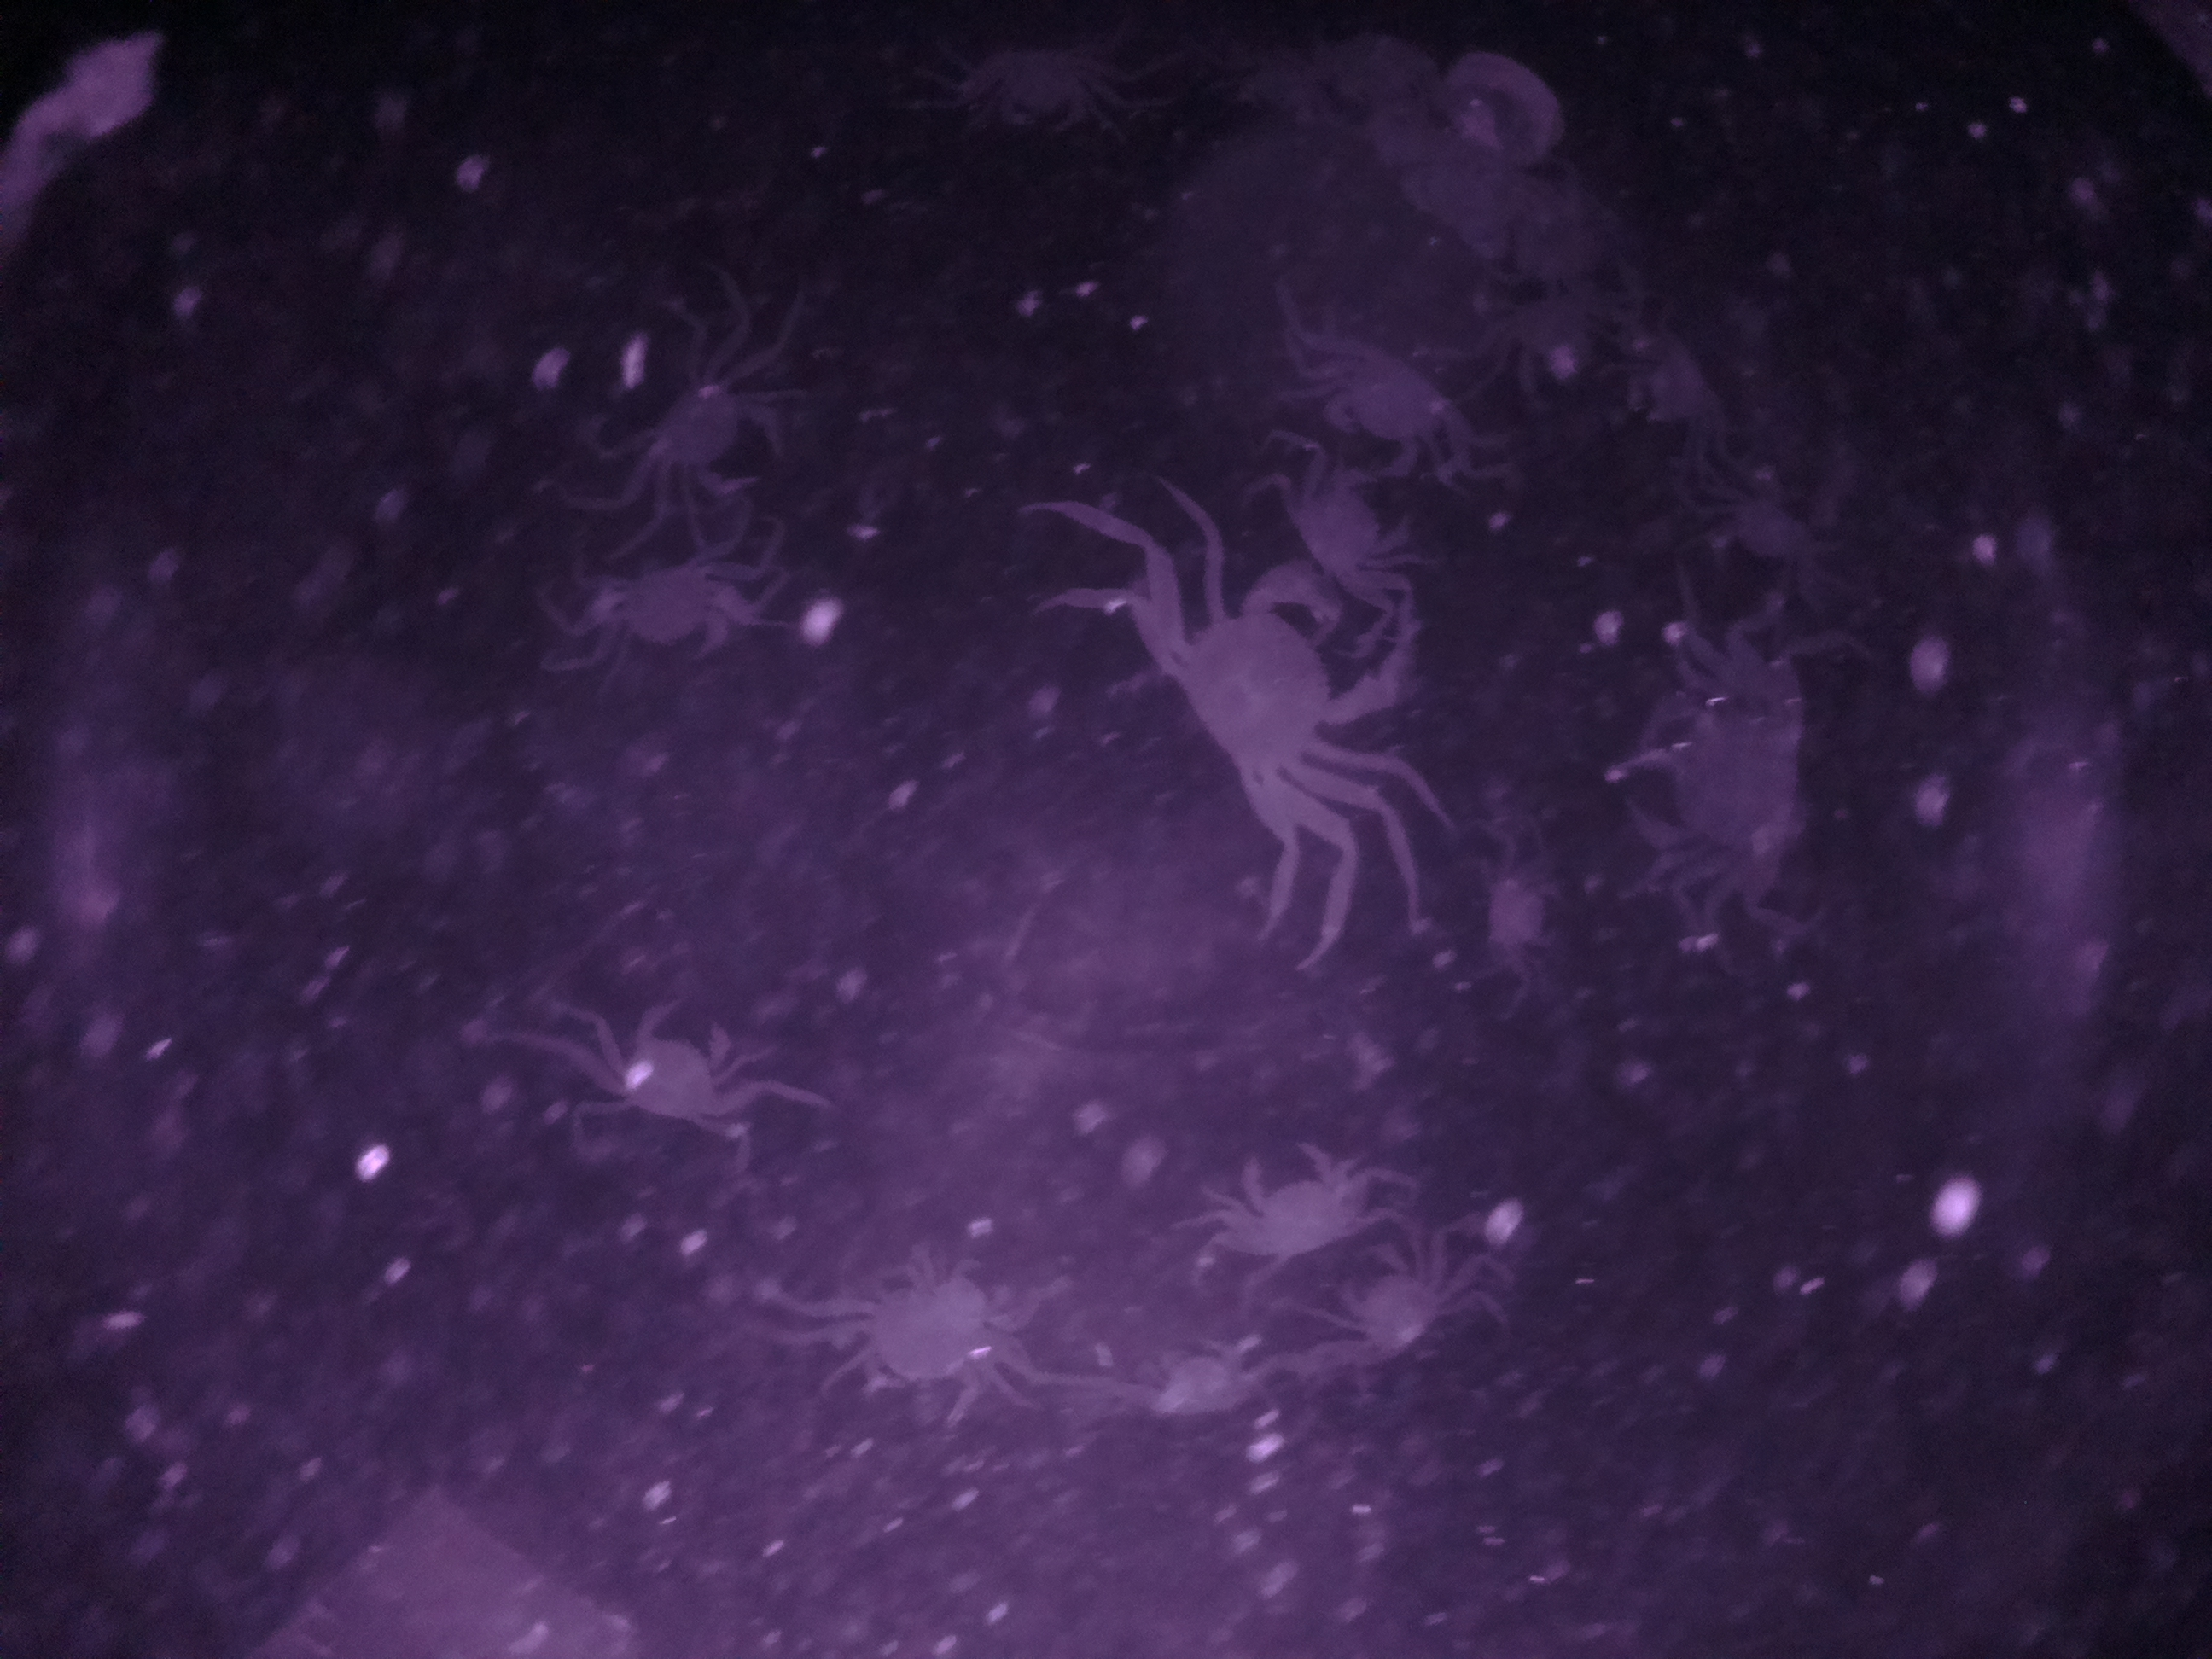Crab: (1089, 561, 1428, 816), (589, 986, 766, 1162), (1306, 335, 1474, 504), (1205, 1112, 1369, 1283), (1320, 1222, 1468, 1394), (637, 359, 796, 519)
